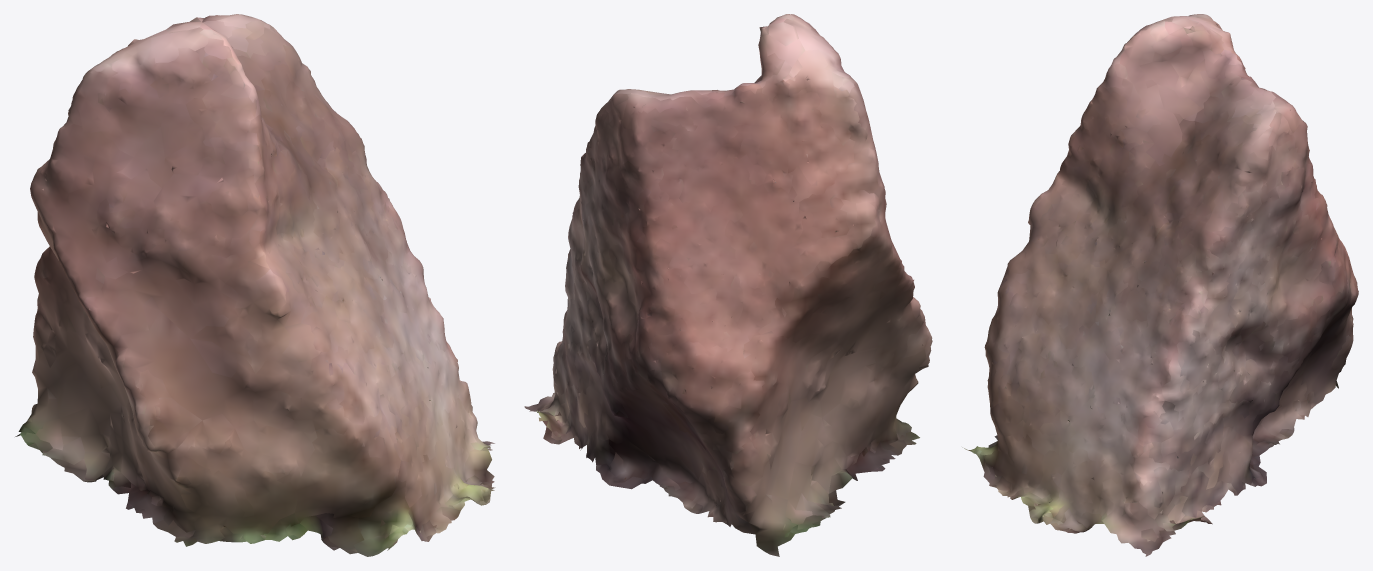
Rendered from rocaLimpia.obj.
3 views of the same model, side by side, from view 1: azimuth 30°, elevation 25°; view 2: azimuth 150°, elevation 25°; view 3: azimuth 270°, elevation 25° (orthographic). The views are drawn at different scales.
Bounding box in the file's own units: 0.4252 × 0.4654 × 0.4038.
Materials: 1 (1 with a texture image).
